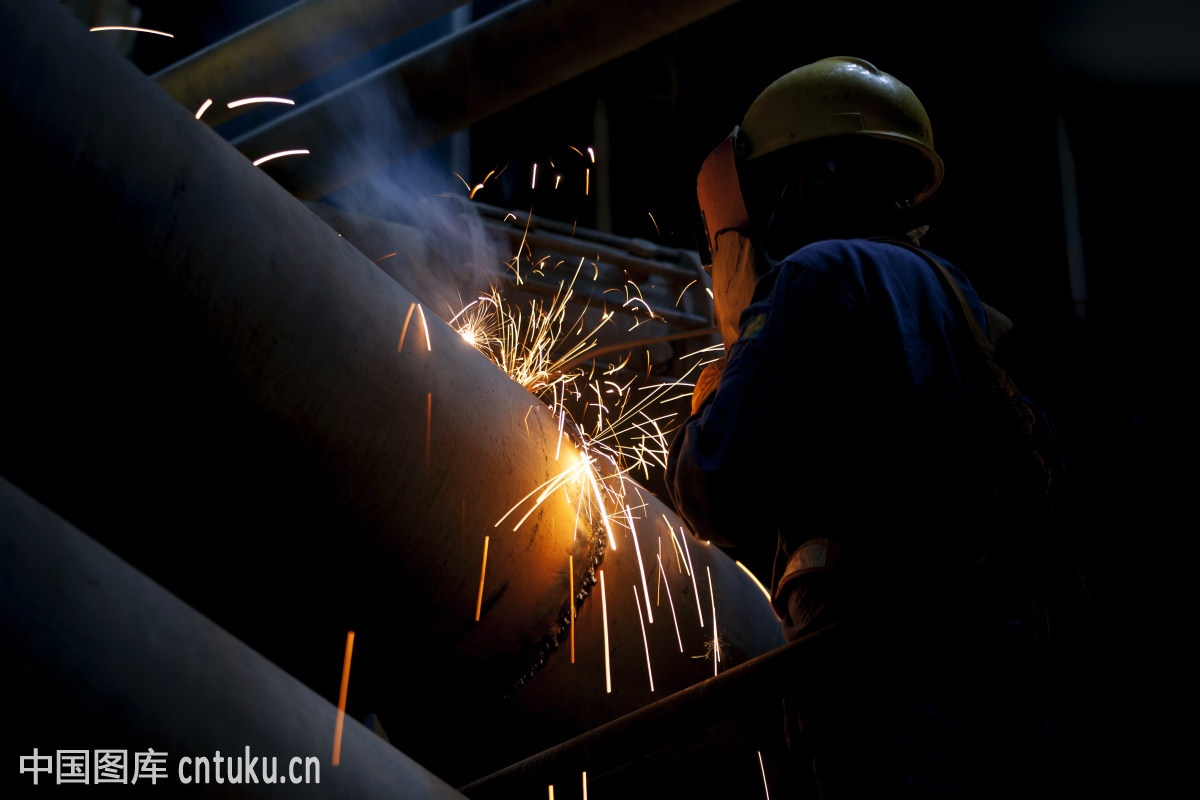yellow: (734, 48, 947, 262)
